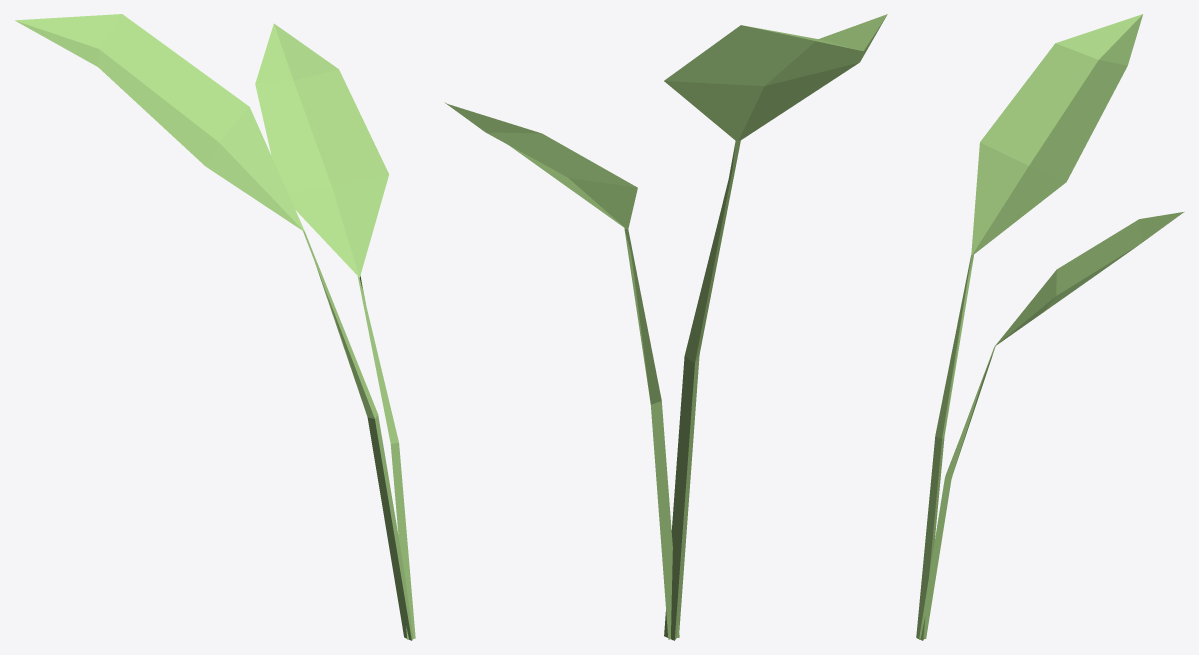
The model's file is Plant_j_OneS_02.fbx.
3 renders of one model, left to right at view 1: azimuth 30°, elevation 25°; view 2: azimuth 150°, elevation 25°; view 3: azimuth 270°, elevation 25°, orthographic. The views are drawn at different scales.
Parts seen in each view (by area): view 1: Plant_j_OneS_02; view 2: Plant_j_OneS_02; view 3: Plant_j_OneS_02.
Boxes of the visible parts, bbox=[...] form: Plant_j_OneS_02: bbox=[15, 14, 415, 640]; Plant_j_OneS_02: bbox=[444, 14, 887, 640]; Plant_j_OneS_02: bbox=[916, 14, 1184, 640].
Size of the model in its own units: 0.3007 by 0.5339 by 0.2542.
